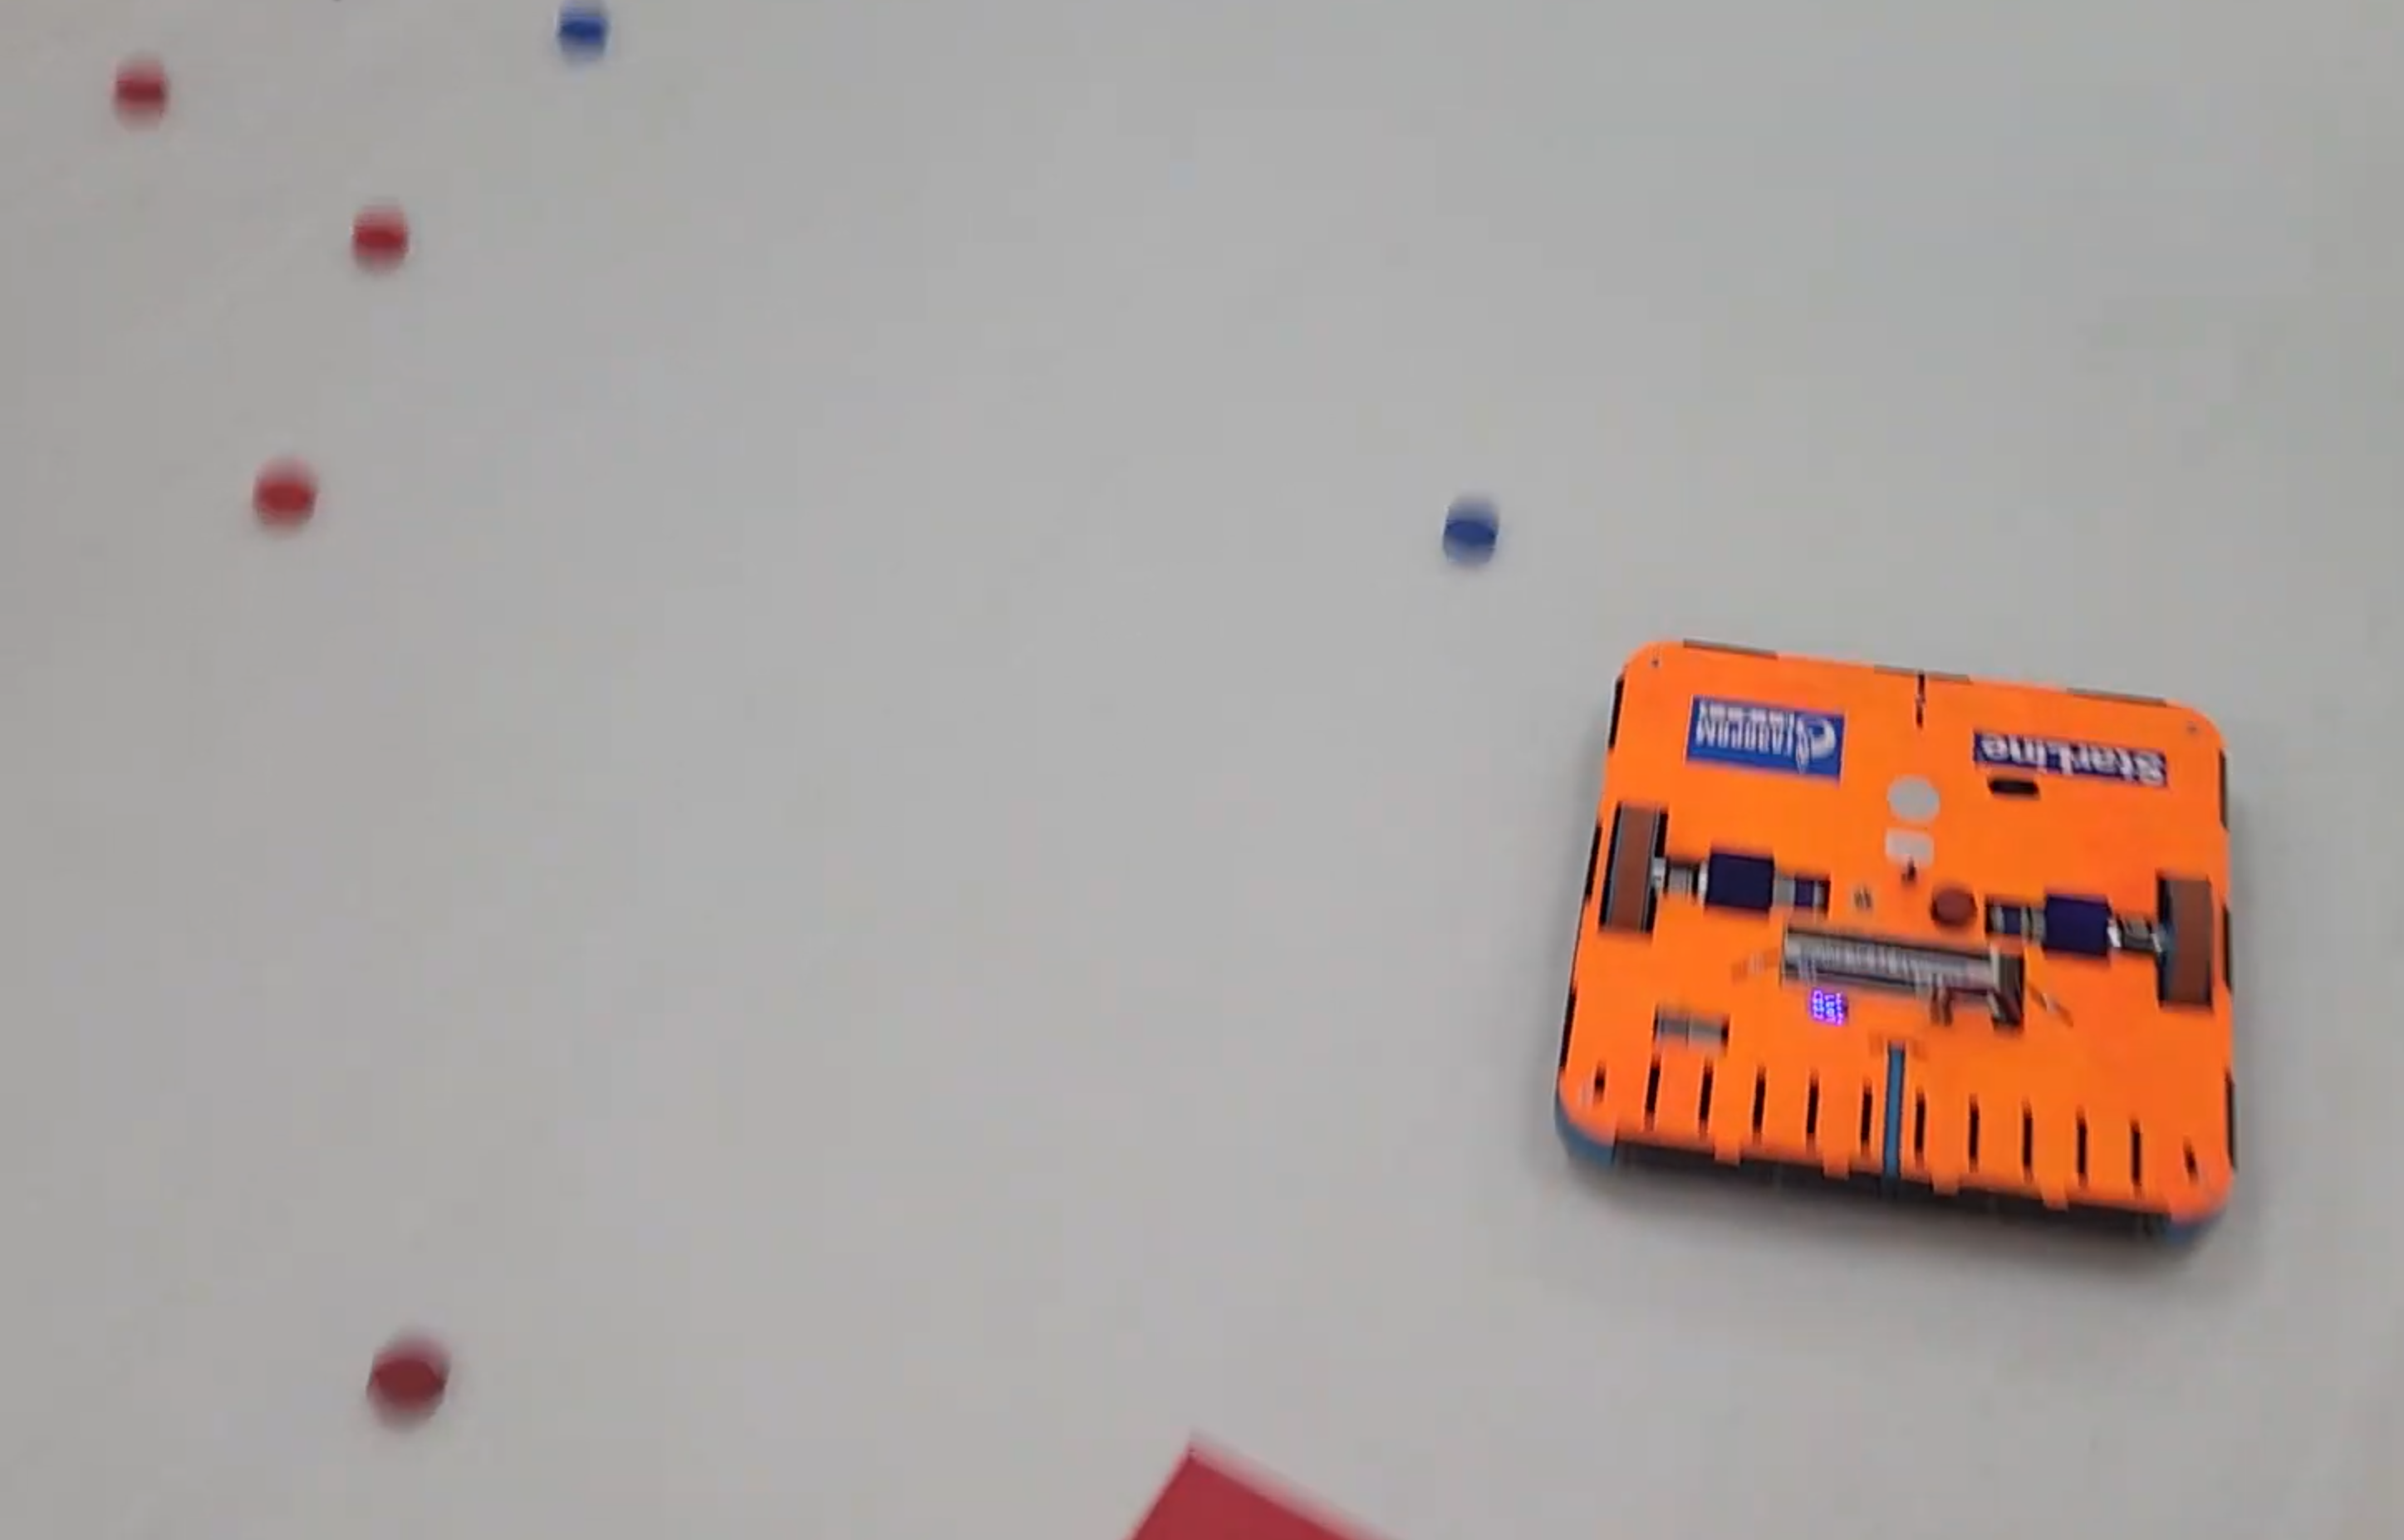blue_puck: (1440, 498, 1509, 568), (557, 9, 617, 67)
red_puck: (363, 1325, 459, 1430), (247, 456, 322, 536), (347, 194, 412, 287), (112, 49, 168, 128)
